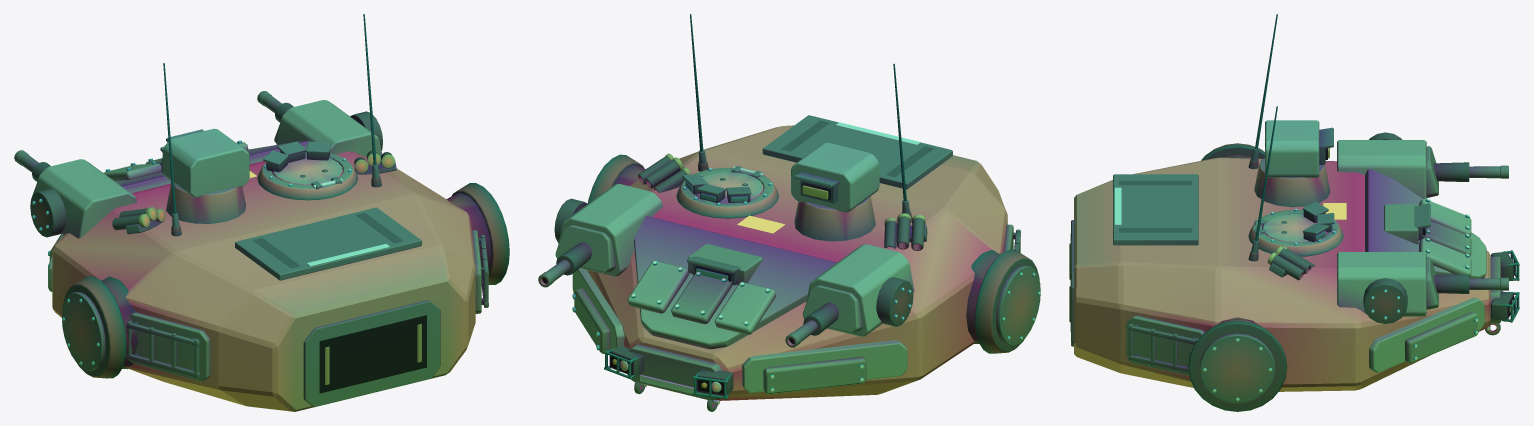
The model's file is core_bmpt_terminator.glb.
3 renders of one model, left to right at view 1: azimuth 30°, elevation 25°; view 2: azimuth 150°, elevation 25°; view 3: azimuth 270°, elevation 25°, orthographic. The views are drawn at different scales.
Parts seen in each view (by area): view 1: Body__armor_sub, Body__gunmetal, Body__armor, Body__dark, Body__bore, Body__brass; view 2: Body__armor_sub, Body__armor, Body__dark, Body__gunmetal, Body__chrome, Body__hazard, Body__bore, Body__decal, Body__glass; view 3: Body__armor_sub, Body__armor, Body__gunmetal, Body__dark, Body__chrome.
Boxes of the visible parts, left/top/right/bottom form: Body__armor_sub: left=32, top=122, right=481, bottom=411; Body__gunmetal: left=14, top=91, right=488, bottom=407; Body__armor: left=35, top=100, right=381, bottom=291; Body__dark: left=30, top=14, right=509, bottom=378; Body__bore: left=319, top=315, right=426, bottom=393; Body__brass: left=139, top=153, right=395, bottom=227; Body__armor_sub: left=555, top=125, right=1013, bottom=400; Body__armor: left=559, top=142, right=914, bottom=393; Body__dark: left=554, top=14, right=1039, bottom=395; Body__gunmetal: left=538, top=115, right=1040, bottom=411; Body__chrome: left=572, top=166, right=1040, bottom=404; Body__hazard: left=640, top=122, right=920, bottom=396; Body__bore: left=542, top=183, right=830, bottom=393; Body__decal: left=737, top=215, right=785, bottom=233; Body__glass: left=685, top=181, right=747, bottom=281; Body__armor_sub: left=1074, top=146, right=1500, bottom=391; Body__armor: left=1262, top=120, right=1486, bottom=372; Body__gunmetal: left=1071, top=127, right=1519, bottom=403; Body__dark: left=1119, top=14, right=1513, bottom=411; Body__chrome: left=1203, top=198, right=1490, bottom=401.
Size of the model in its own units: 2.29 by 1.64 by 2.31.
